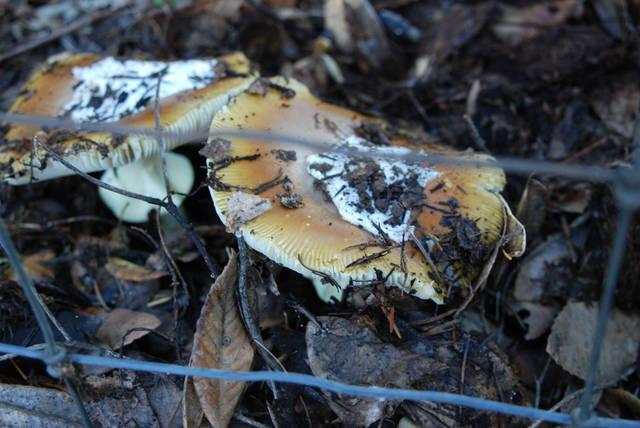Edible Mushroom: (201, 73, 526, 308), (2, 48, 260, 225), (96, 149, 195, 223)
